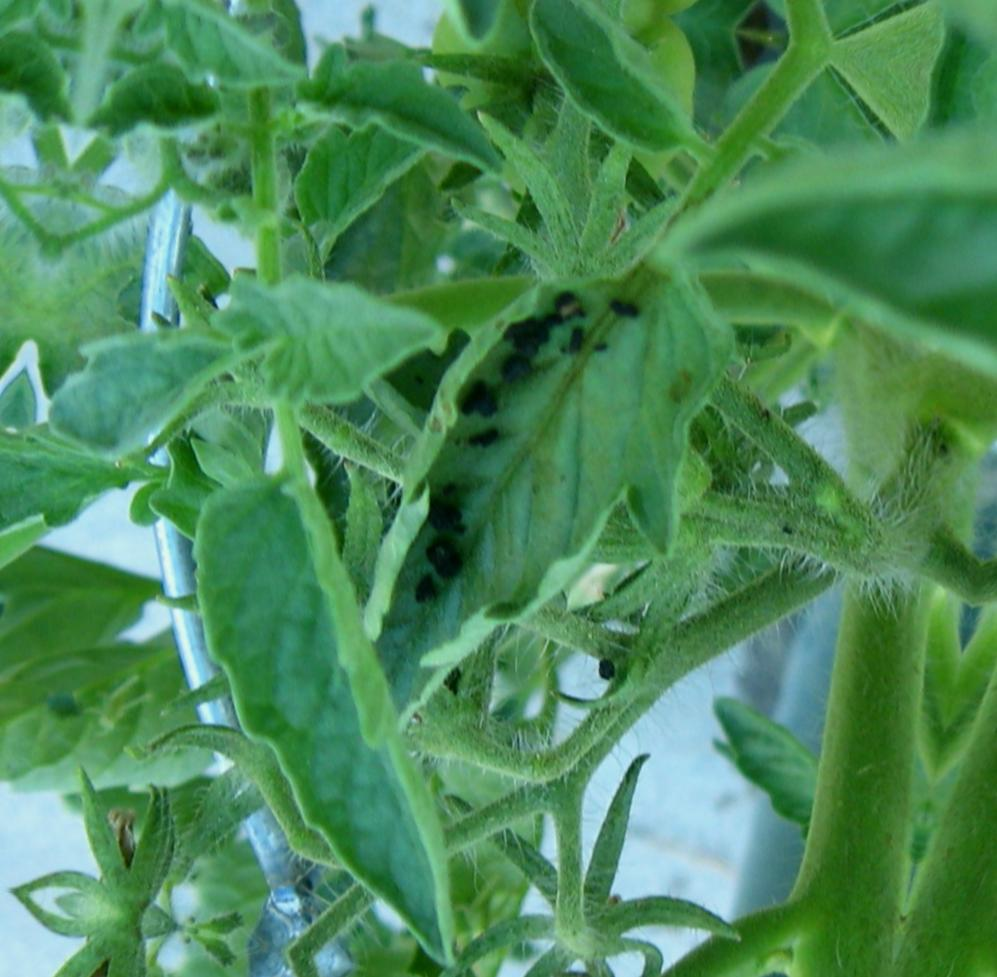Tomato leaf: (124, 436, 553, 976)
